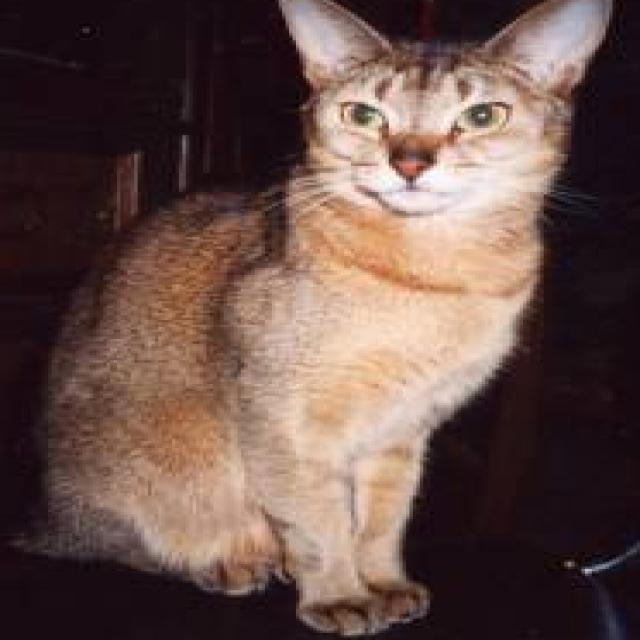Abyssinian: (3, 0, 623, 640)
